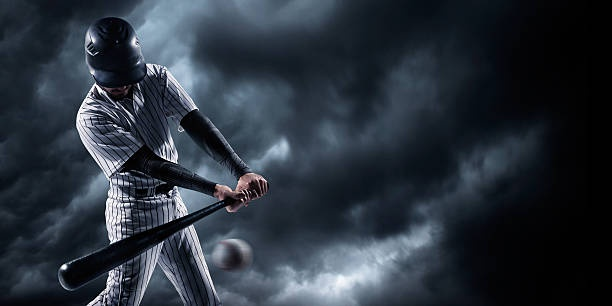bita: (60, 186, 271, 287)
